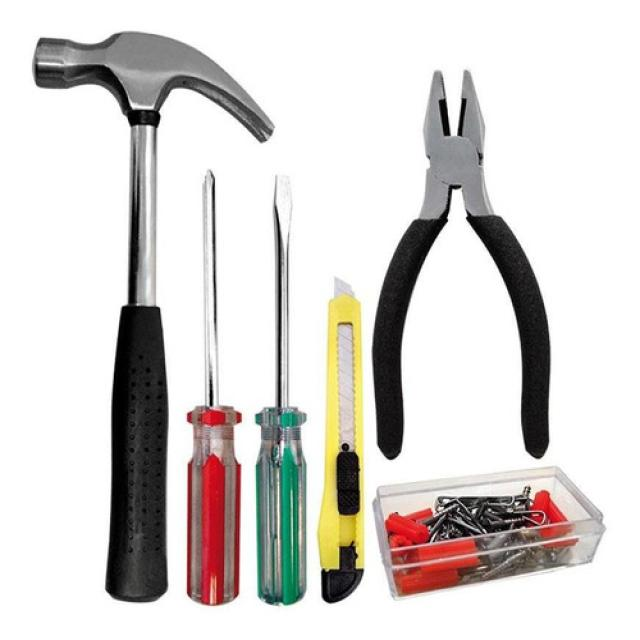Screwdriver: (188, 171, 241, 605), (255, 176, 306, 605)
